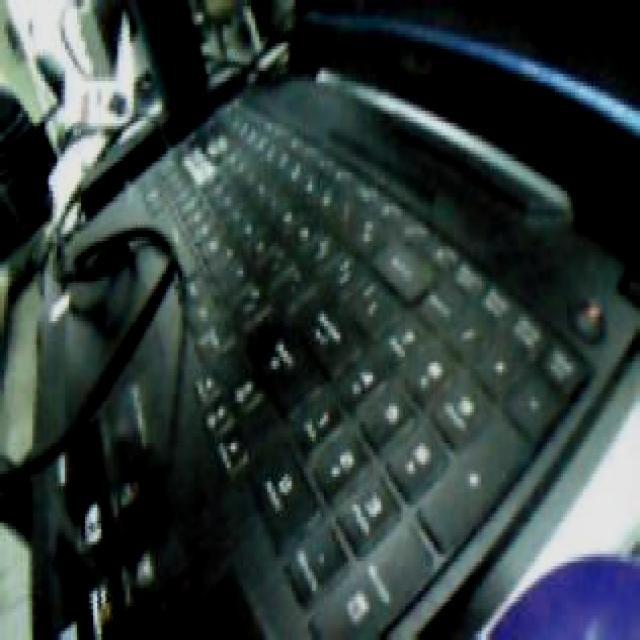BallPurple: (480, 551, 640, 637)
